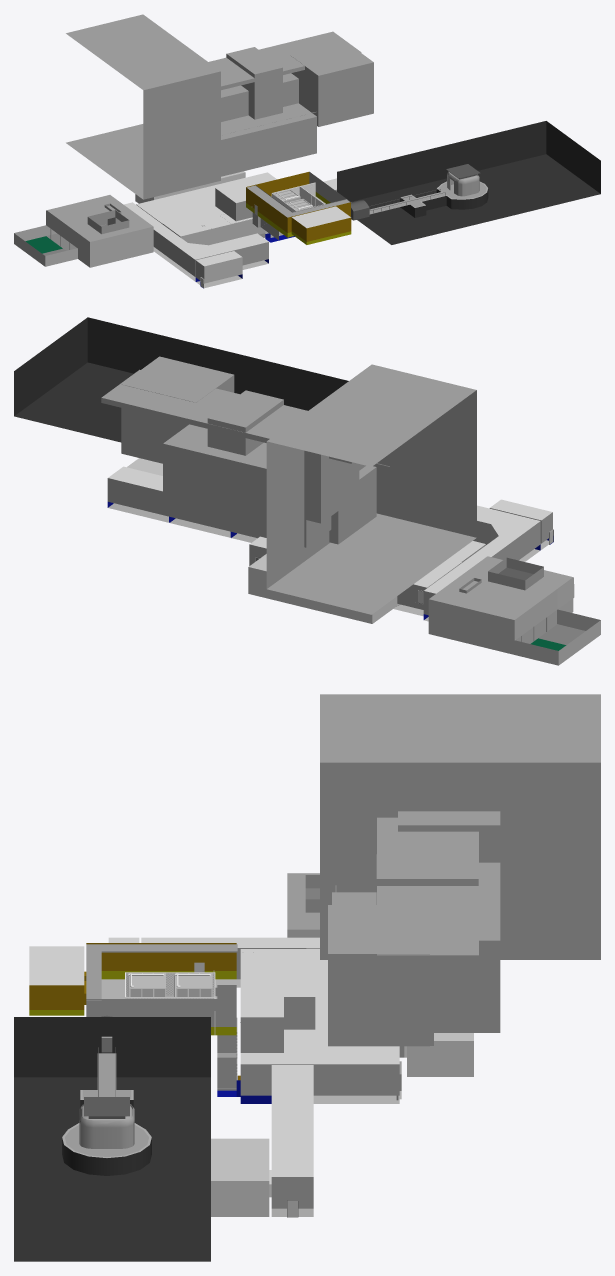
Rendered from TestAreaNew.fbx.
3 renders of one model, top to bottom at view 1: azimuth 30°, elevation 25°; view 2: azimuth 150°, elevation 25°; view 3: azimuth 270°, elevation 25°, orthographic. The views are drawn at different scales.
Parts seen in each view (by area): view 1: pCube128, polySurface121, pCube129, pCube115, polySurface108, FirstInsideArea, polySurface101, polySurface122, pCube131, pCube132, polySurface106, polySurface91 (+8 smaller); view 2: pCube128, polySurface121, pCube126, polySurface108, pCube129, pCube132, polySurface106, polySurface101, polySurface95, pCube127, pCube131, TestingArfea_Lookout (+3 smaller); view 3: pCube128, polySurface121, pCube129, FirstInsideArea, polySurface122, pCube132, pCube126, polySurface91, polySurface95, polySurface96, polySurface86, pCube131 (+11 smaller).
Boxes of the visible parts, <box> form: pCube128: <box>66,14,220,199</box>; polySurface121: <box>337,121,600,244</box>; pCube129: <box>290,41,373,126</box>; pCube115: <box>221,103,316,176</box>; polySurface108: <box>46,195,153,267</box>; FirstInsideArea: <box>162,178,265,245</box>; polySurface101: <box>124,202,268,281</box>; polySurface122: <box>246,171,350,242</box>; pCube131: <box>226,47,282,119</box>; pCube132: <box>208,31,361,90</box>; polySurface106: <box>14,210,89,266</box>; polySurface91: <box>136,172,276,223</box>; pCube128: <box>266,364,476,614</box>; polySurface121: <box>14,317,348,442</box>; pCube126: <box>163,424,331,547</box>; polySurface108: <box>428,556,573,654</box>; pCube129: <box>121,356,234,463</box>; pCube132: <box>101,369,353,463</box>; polySurface106: <box>514,577,600,665</box>; polySurface101: <box>423,505,540,621</box>; polySurface95: <box>107,466,259,542</box>; pCube127: <box>304,450,359,523</box>; pCube131: <box>207,390,283,455</box>; TestingArfea_Lookout: <box>248,554,397,623</box>; pCube128: <box>320,694,600,959</box>; polySurface121: <box>14,1017,210,1261</box>; pCube129: <box>328,905,429,1046</box>; FirstInsideArea: <box>236,949,315,1103</box>; polySurface122: <box>84,943,236,1096</box>; pCube132: <box>377,817,478,961</box>; pCube126: <box>430,862,500,1032</box>; polySurface91: <box>306,948,404,1103</box>; polySurface95: <box>271,1065,313,1217</box>; polySurface96: <box>211,1138,271,1216</box>; polySurface86: <box>29,946,84,1015</box>; pCube131: <box>376,854,478,904</box>.
Bounding box in the file's own units: 13046 × 4182 × 7860.
